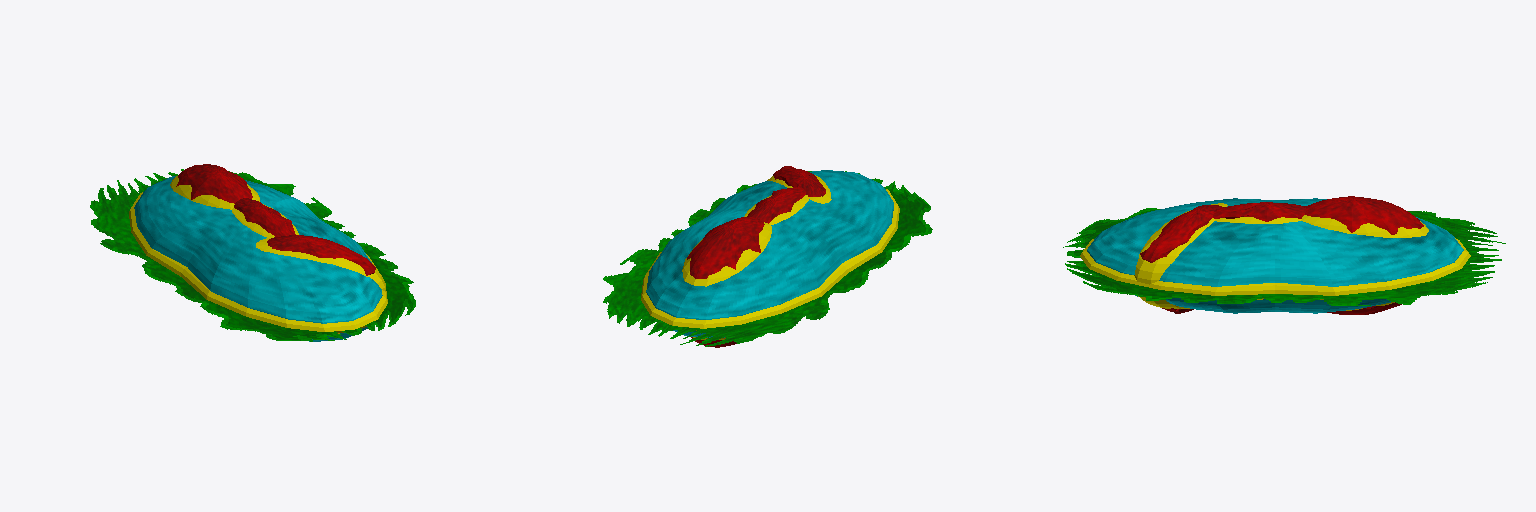
3 renders of one model, left to right at view 1: azimuth 30°, elevation 25°; view 2: azimuth 150°, elevation 25°; view 3: azimuth 270°, elevation 25°, orthographic.
Visible parts, largest first — view 1: pSphere5, pPlane1, pSphere1, polySurface1 polySurface5, polySurface1 polySurface7, polySurface1 polySurface6, polySurface1 polySurface4, polySurface2 polySurface1; view 2: pSphere5, pPlane1, pSphere1, polySurface1 polySurface5, polySurface2 polySurface1, polySurface1 polySurface6, polySurface1 polySurface7; view 3: pSphere5, pPlane1, pSphere1, polySurface1 polySurface5, polySurface1 polySurface7, polySurface1 polySurface4, polySurface1 polySurface6, polySurface2 polySurface1.
Boxes of the visible parts, box(x1,y1,x2,y2) form: pSphere5: box(134, 176, 382, 341); pPlane1: box(90, 169, 415, 341); pSphere1: box(129, 192, 387, 333); polySurface1 polySurface5: box(176, 164, 252, 203); polySurface1 polySurface7: box(267, 235, 375, 275); polySurface1 polySurface6: box(234, 198, 295, 236); polySurface1 polySurface4: box(256, 238, 385, 290); polySurface2 polySurface1: box(170, 176, 259, 209); pSphere5: box(646, 170, 893, 337); pPlane1: box(603, 171, 932, 346); pSphere1: box(641, 189, 899, 330); polySurface1 polySurface5: box(687, 217, 764, 347); polySurface2 polySurface1: box(682, 222, 771, 339); polySurface1 polySurface6: box(747, 187, 805, 223); polySurface1 polySurface7: box(773, 166, 825, 196); pSphere5: box(1087, 198, 1463, 313); pPlane1: box(1063, 208, 1505, 305); pSphere1: box(1080, 238, 1470, 299); polySurface1 polySurface5: box(1305, 196, 1423, 314); polySurface1 polySurface7: box(1140, 205, 1222, 313); polySurface1 polySurface4: box(1134, 203, 1227, 308); polySurface1 polySurface6: box(1213, 202, 1305, 221); polySurface2 polySurface1: box(1301, 215, 1428, 310).
Bounding box in the file's own units: 2.55 × 1.32 × 4.79.
4 materials, 3 textured.